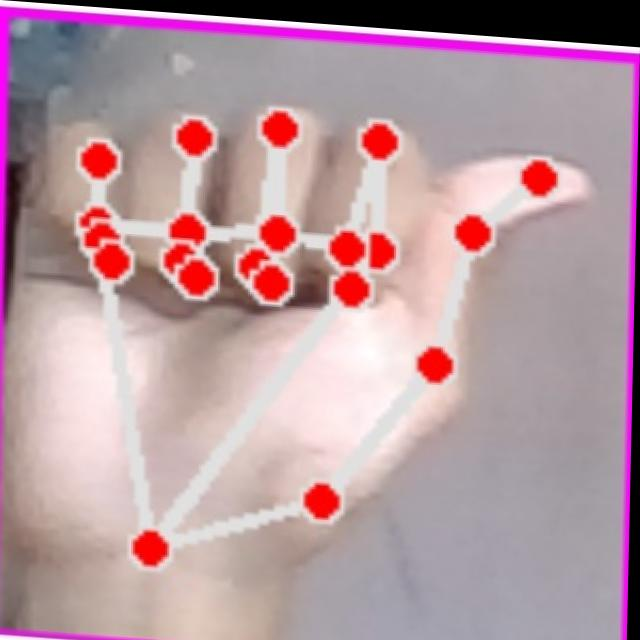A: (8, 67, 616, 628)
